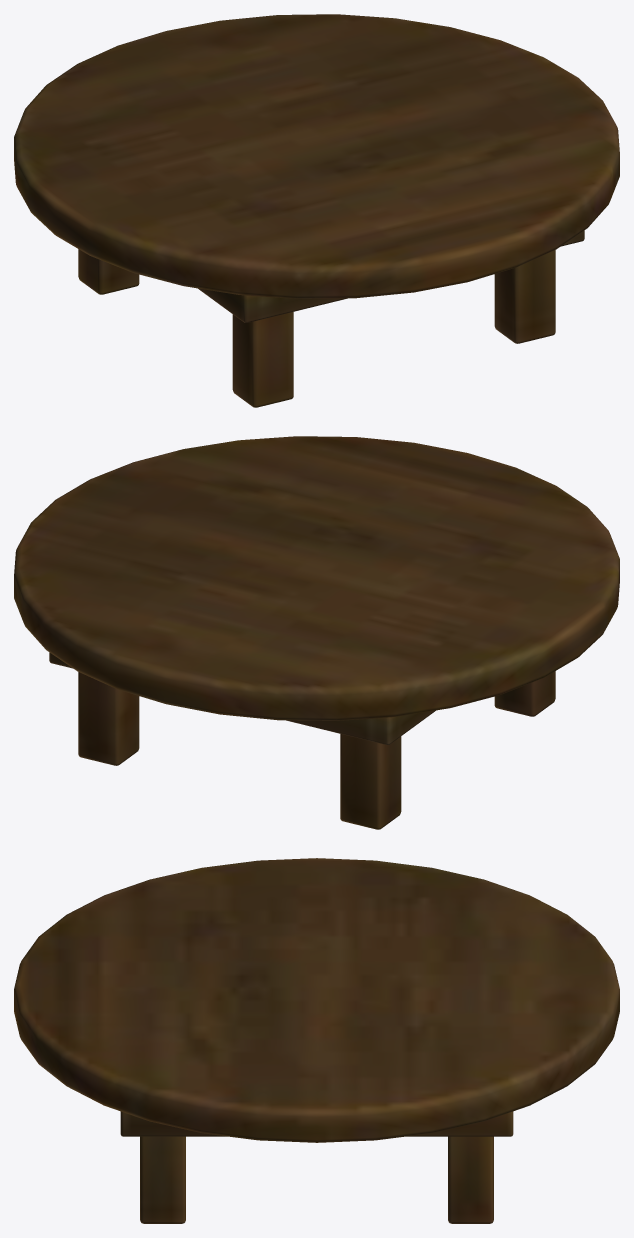
3 renders of one model, top to bottom at view 1: azimuth 30°, elevation 25°; view 2: azimuth 150°, elevation 25°; view 3: azimuth 270°, elevation 25°, orthographic.
Size of the model in its own units: 18 by 5.5 by 18.
Materials: 1 (1 with a texture image).
